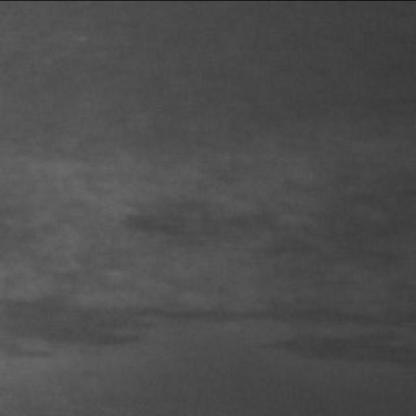inclusion: (6, 295, 416, 366), (123, 198, 324, 256)
